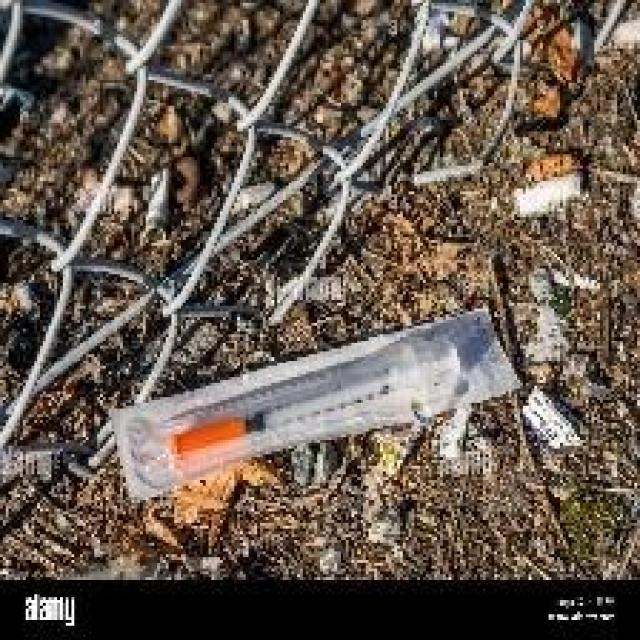syringe: (108, 322, 534, 506)
